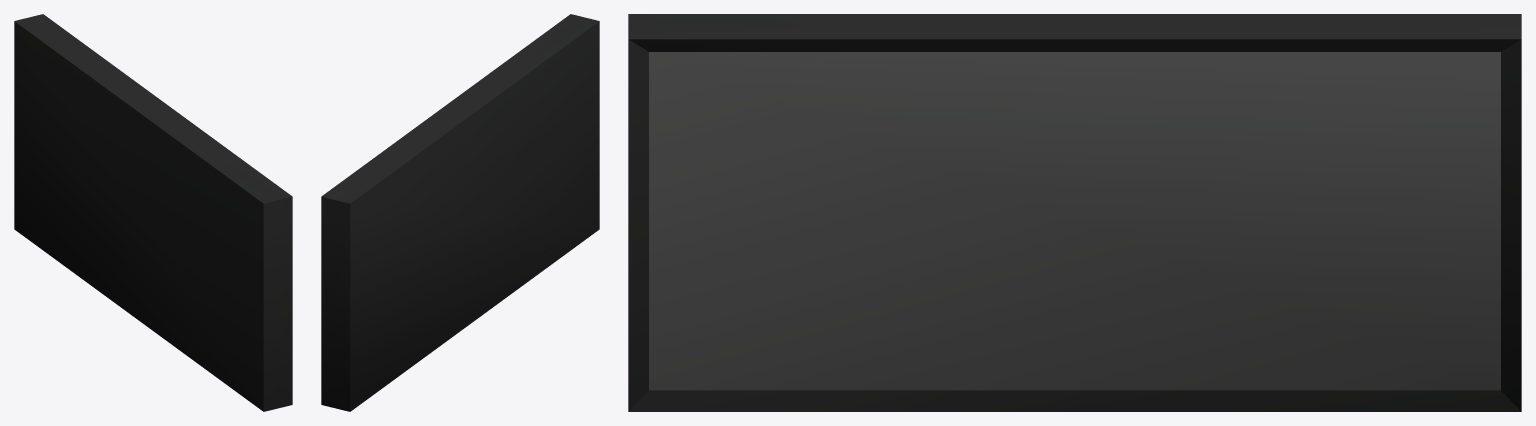
The model's file is clock.fbx.
3 renders of one model, left to right at view 1: azimuth 30°, elevation 25°; view 2: azimuth 150°, elevation 25°; view 3: azimuth 270°, elevation 25°, orthographic. The views are drawn at different scales.
Parts seen in each view (by area): view 1: Cube; view 2: Cube; view 3: Cube.
Part boxes in pixels (x1,y1,x2,y2): Cube: (14, 14, 292, 411); Cube: (321, 14, 599, 411); Cube: (628, 14, 1521, 411).
Size of the model in its own units: 36.52 by 250 by 544.
